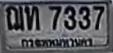3: (63, 5, 75, 29), (78, 5, 89, 28)
7: (48, 5, 61, 29), (92, 5, 104, 29)
A12: (5, 5, 23, 30)
A23: (24, 5, 39, 30)
BKK: (20, 37, 95, 49)
